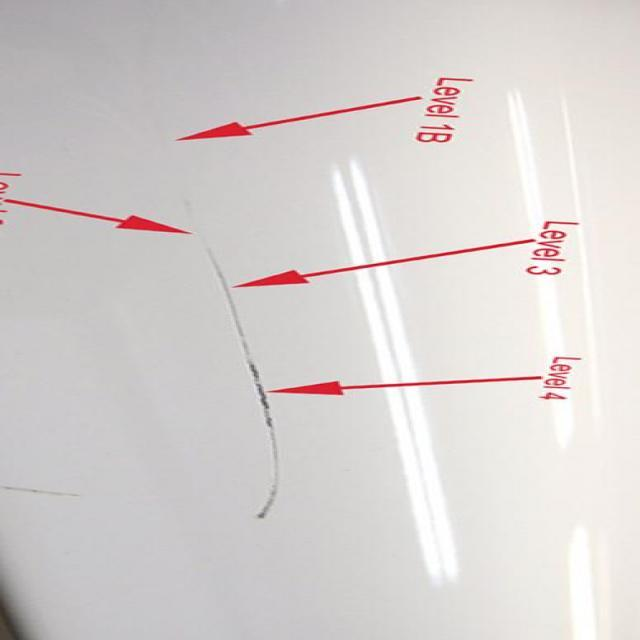scratch: (178, 226, 330, 528)
